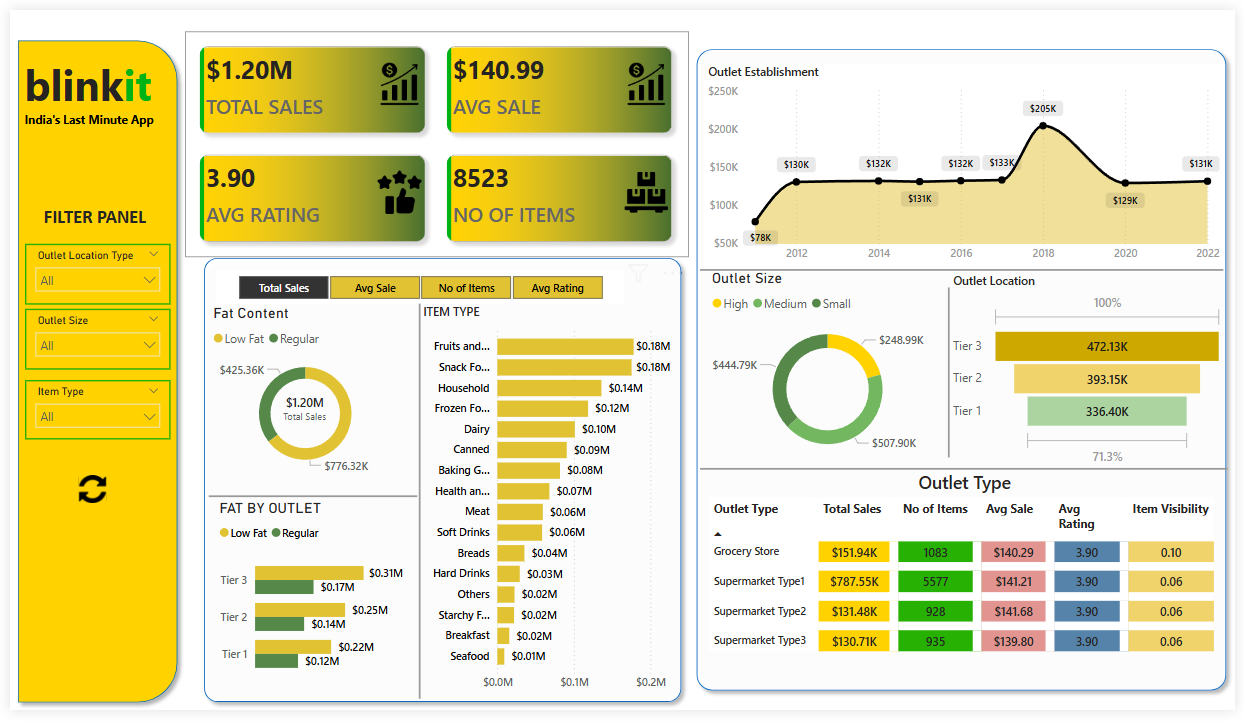

Layout of this report page (visuals, bound fields, positions):
{"tool":"powerbi","page":{"name":"Page 1","canvas":[1400,800],"ordinal":0},"visuals":[{"type":"shape","box":[0,25.2,200.4,774.8],"z":0},{"type":"textbox","box":[11,47.3,165.7,105.7],"z":1000},{"type":"cardVisual","fields":{"Data":["BlinkIT Grocery Data.Total Sales","BlinkIT Grocery Data.Avg Sale","BlinkIT Grocery Data.Avg Rating","BlinkIT Grocery Data.No of Items"]},"box":[200.4,23.7,576,258.8],"z":2000},{"type":"shape","box":[213,274.6,563.4,525.5],"z":3000},{"type":"slicer","fields":{"Values":["Metrics.Metrics"]},"box":[235.1,296.7,465.5,39.5],"z":4000},{"type":"donutChart","title":"Fat Content","fields":{"Y":["BlinkIT Grocery Data.Total Sales"],"Category":["BlinkIT Grocery Data.Item Fat Content"]},"box":[227.2,336.1,220.9,202],"z":5000},{"type":"cardVisual","fields":{"Data":["BlinkIT Grocery Data.Total Sales"]},"box":[294.9,422.3,85.8,64.3],"z":6000},{"type":"clusteredBarChart","title":"FAT BY OUTLET","fields":{"Y":["BlinkIT Grocery Data.Total Sales"],"Category":["BlinkIT Grocery Data.Outlet Location Type"],"Series":["BlinkIT Grocery Data.Item Fat Content"]},"box":[234.6,559,219.8,217.2],"z":7000},{"type":"shape","box":[227.2,525.5,238.3,60],"z":8000},{"type":"barChart","title":"ITEM TYPE","fields":{"Y":["BlinkIT Grocery Data.Total Sales"],"Category":["BlinkIT Grocery Data.Item Type"]},"box":[467.1,336.1,309.3,451.3],"z":9000},{"type":"shape","box":[776.4,36.3,623.3,751.1],"z":10000},{"type":"lineChart","title":"Outlet Establishment","fields":{"Category":["BlinkIT Grocery Data.Outlet Establishment Year"],"Y":["BlinkIT Grocery Data.Total Sales"]},"box":[792.2,61.5,594.9,235.1],"z":11000},{"type":"shape","box":[789,146.8,598.1,299.8],"z":12000},{"type":"donutChart","title":"Outlet Size","fields":{"Y":["BlinkIT Grocery Data.Total Sales"],"Series":["BlinkIT Grocery Data.Outlet Size"]},"box":[797.6,296.2,274.8,226.5],"z":13000},{"type":"shape","box":[404,336.1,127.8,451.3],"z":14000},{"type":"shape","box":[1027.3,317.2,91.5,194.1],"z":15000},{"type":"funnel","title":"Outlet Location","fields":{"Y":["Sum(BlinkIT Grocery Data.Sales)"],"Category":["BlinkIT Grocery Data.Outlet Location Type"]},"box":[1073.1,299.8,318.8,225.7],"z":16000},{"type":"shape","box":[789,486,602.8,77.3],"z":17000},{"type":"pivotTable","title":"Outlet Type","fields":{"Rows":["BlinkIT Grocery Data.Outlet Type"],"Values":["BlinkIT Grocery Data.Total Sales","BlinkIT Grocery Data.No of Items","BlinkIT Grocery Data.Avg Sale","BlinkIT Grocery Data.Avg Rating","Avg(BlinkIT Grocery Data.Item Visibility)"]},"box":[793.7,525.5,593.3,250.9],"z":18000},{"type":"slicer","fields":{"Values":["BlinkIT Grocery Data.Outlet Location Type"]},"box":[17.4,266.8,166.2,69.7],"z":19000},{"type":"slicer","fields":{"Values":["BlinkIT Grocery Data.Outlet Size"]},"box":[17.4,341.8,166.2,69.7],"z":20000},{"type":"slicer","fields":{"Values":["BlinkIT Grocery Data.Item Type"]},"box":[17.4,422.3,166.2,68.4],"z":21000},{"type":"textbox","box":[17.4,218.5,159.5,37.5],"z":22000},{"type":"actionButton","box":[73.7,512.1,85.8,72.4],"z":23000}]}

Visuals, with their boxes in screenshot pixels (x1, y1, x2, y2), scaled from the page's 1400x800 canvas onto the 1244x722 screenshot:
shape: bbox=[0, 23, 178, 721]
textbox: bbox=[10, 43, 157, 138]
cardVisual - BlinkIT Grocery Data.Total Sales x BlinkIT Grocery Data.Avg Sale: bbox=[178, 21, 690, 255]
shape: bbox=[189, 248, 690, 721]
slicer - Metrics.Metrics: bbox=[209, 268, 623, 303]
"Fat Content" donutChart: bbox=[202, 303, 398, 486]
cardVisual - BlinkIT Grocery Data.Total Sales: bbox=[262, 381, 338, 439]
"FAT BY OUTLET" clusteredBarChart: bbox=[208, 504, 404, 701]
shape: bbox=[202, 474, 414, 528]
"ITEM TYPE" barChart: bbox=[415, 303, 690, 711]
shape: bbox=[690, 33, 1243, 711]
"Outlet Establishment" lineChart: bbox=[704, 56, 1233, 268]
shape: bbox=[701, 132, 1233, 403]
"Outlet Size" donutChart: bbox=[709, 267, 953, 472]
shape: bbox=[359, 303, 473, 711]
shape: bbox=[913, 286, 994, 461]
"Outlet Location" funnel: bbox=[954, 271, 1237, 474]
shape: bbox=[701, 439, 1237, 508]
"Outlet Type" pivotTable: bbox=[705, 474, 1232, 701]
slicer - BlinkIT Grocery Data.Outlet Location Type: bbox=[15, 241, 163, 304]
slicer - BlinkIT Grocery Data.Outlet Size: bbox=[15, 308, 163, 371]
slicer - BlinkIT Grocery Data.Item Type: bbox=[15, 381, 163, 443]
textbox: bbox=[15, 197, 157, 231]
actionButton: bbox=[65, 462, 142, 528]
